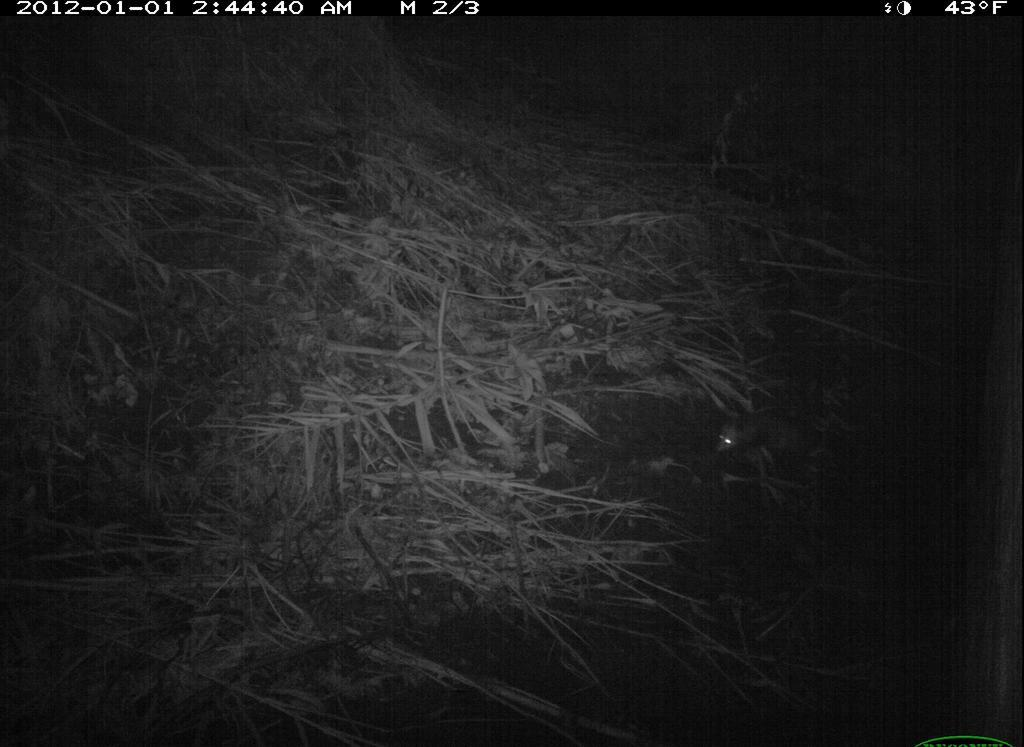opossum: (702, 391, 848, 487)
